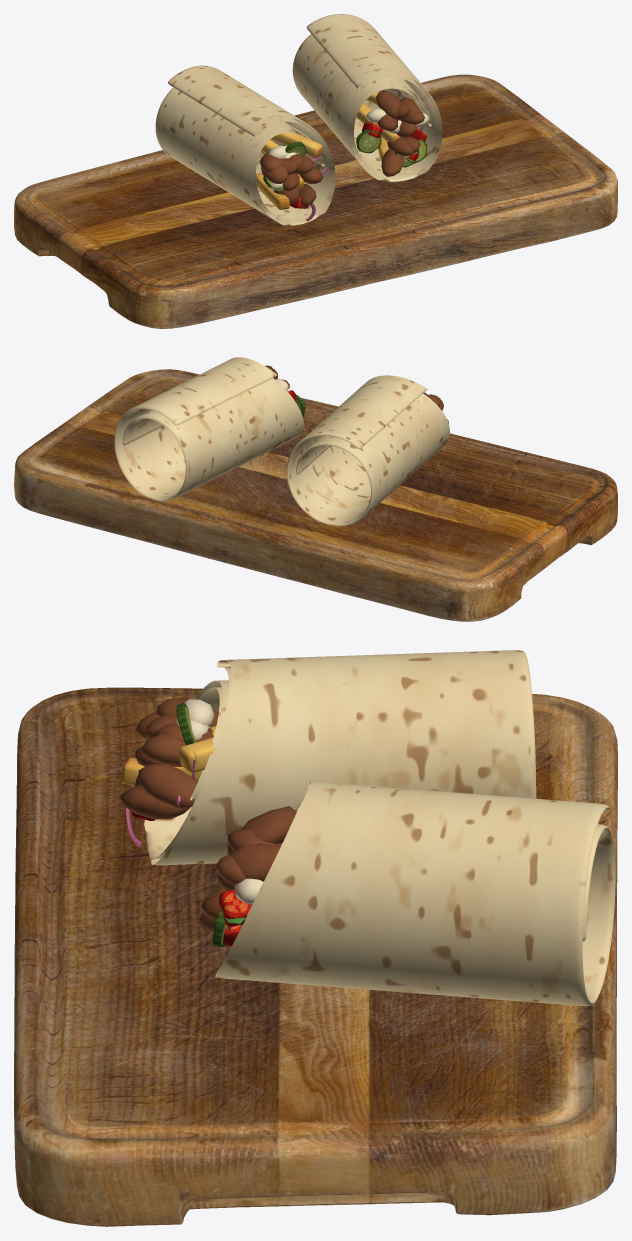
The model's file is beef-shawarma.glb.
3 renders of one model, top to bottom at view 1: azimuth 30°, elevation 25°; view 2: azimuth 150°, elevation 25°; view 3: azimuth 270°, elevation 25°, orthographic. The views are drawn at different scales.
Parts seen in each view (by area): view 1: base, pita, beef, fries, pickles, tahini, tomato; view 2: base, pita; view 3: base, pita, beef, fries, tahini, tomato, pickles.
Boxes of the visible parts, x1,y1,x2,y2 form: base: [14, 74, 617, 328]; pita: [155, 14, 442, 226]; beef: [259, 90, 424, 206]; fries: [256, 92, 400, 209]; pickles: [263, 129, 427, 187]; tahini: [268, 107, 429, 190]; tomato: [289, 122, 427, 208]; base: [14, 369, 617, 621]; pita: [114, 357, 449, 526]; base: [14, 687, 617, 1226]; pita: [144, 650, 615, 1006]; beef: [119, 697, 296, 933]; fries: [121, 726, 242, 926]; tahini: [175, 699, 263, 904]; tomato: [131, 811, 250, 946]; pickles: [176, 703, 227, 947].
Size of the model in its own units: 0.36 by 0.0973 by 0.1974.
10 materials, 7 textured.
